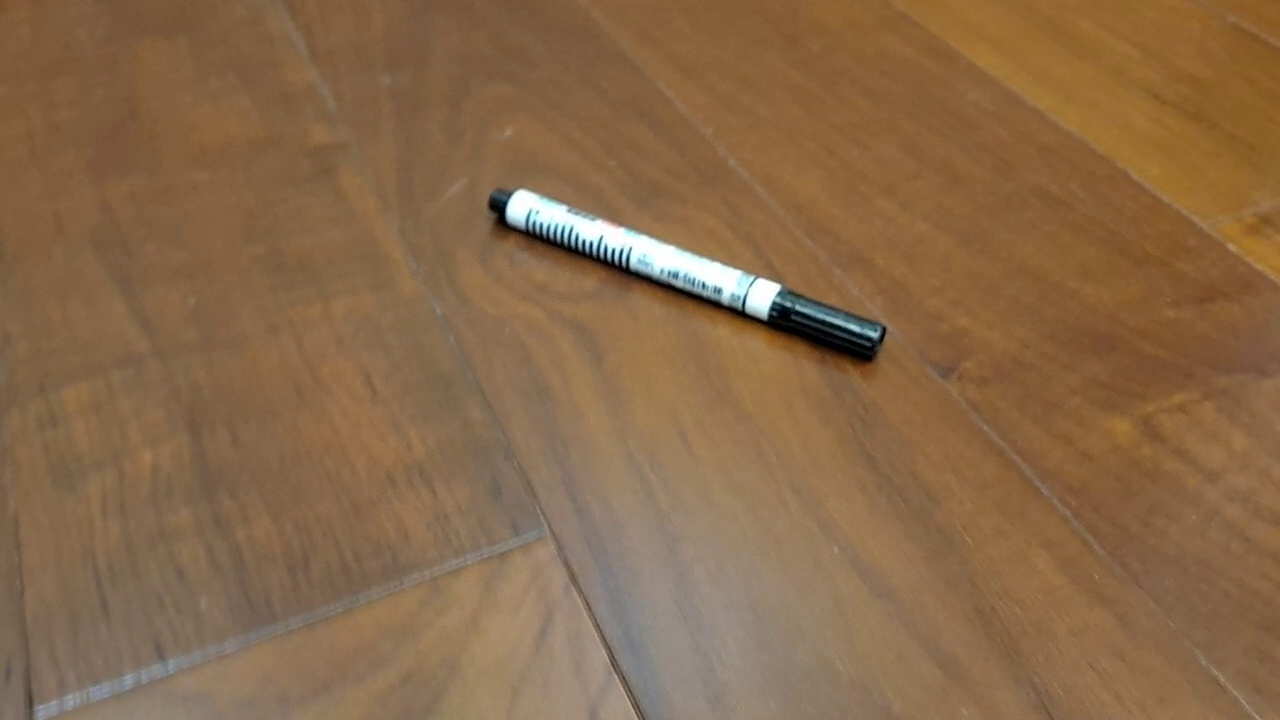pen: (486, 184, 887, 362)
